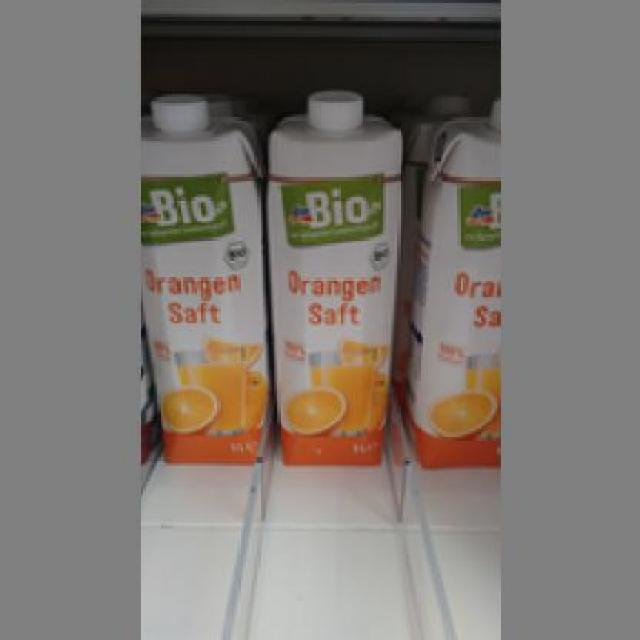Juice: (266, 88, 403, 464), (138, 93, 272, 470), (408, 106, 494, 468)
